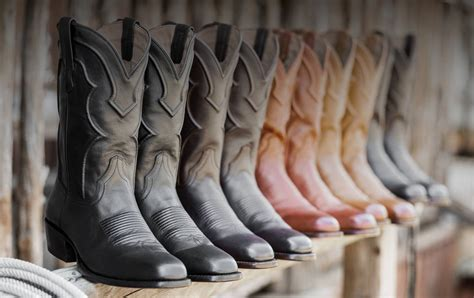cuero: (50, 17, 273, 286)
